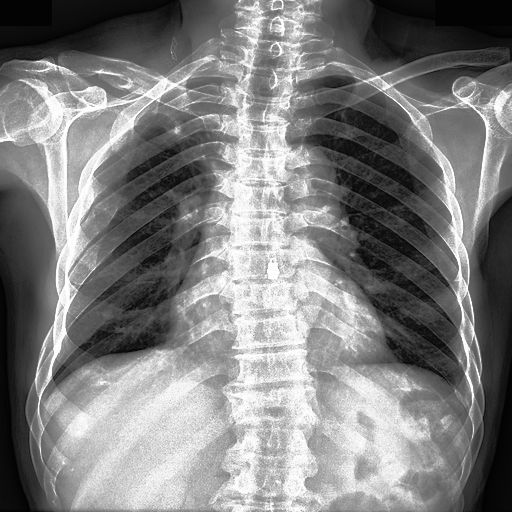Calcification: (132, 80, 228, 129)
Consolidation: (275, 142, 339, 231)
Nodule/Mass: (169, 301, 397, 362)
Pleural thickening: (149, 80, 224, 139)
